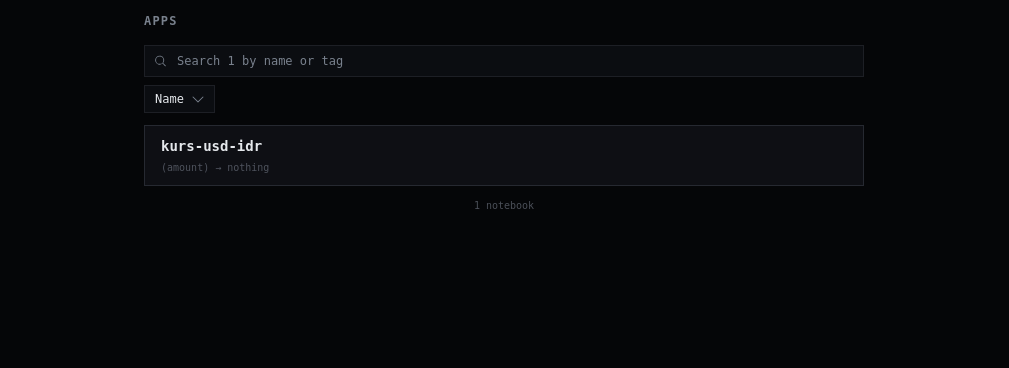
an app that was redeployed while it was open › says when the app was withdrawn, and offers nothing to load
The image size is (1009, 368).
What coordinates should you click on to do the following:
click the text "kurs-usd-idr"
I would click on:
 (212, 146)
Its box is [161,136,262,156].
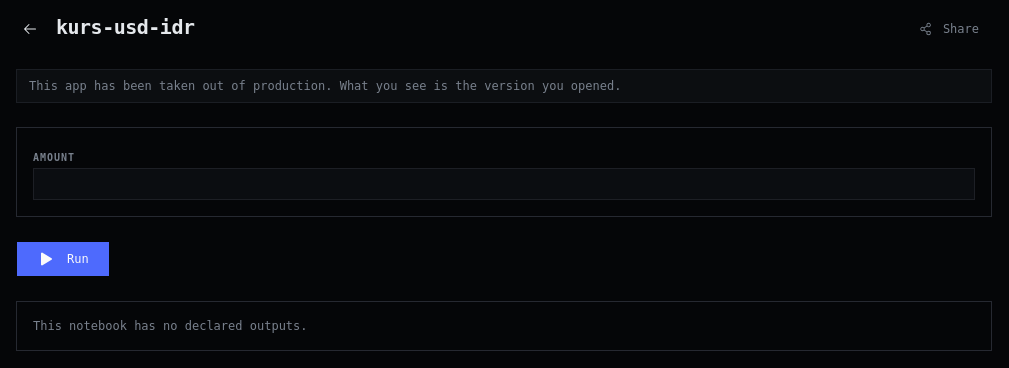
Check: the number field labelled "amount" is shown, box [33,168,975,200]
Check: the message shows "taken out of production", box [29,79,621,93]
